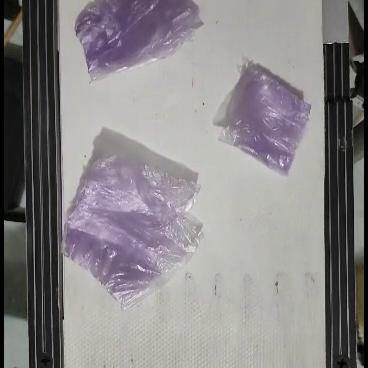Plastik: (59, 155, 205, 311), (218, 60, 311, 177), (76, 0, 204, 82)
